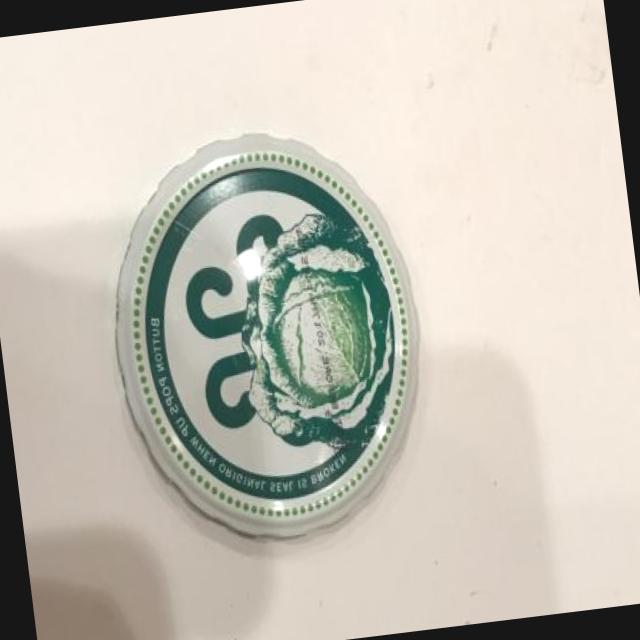kim_loai: (113, 133, 421, 541)
